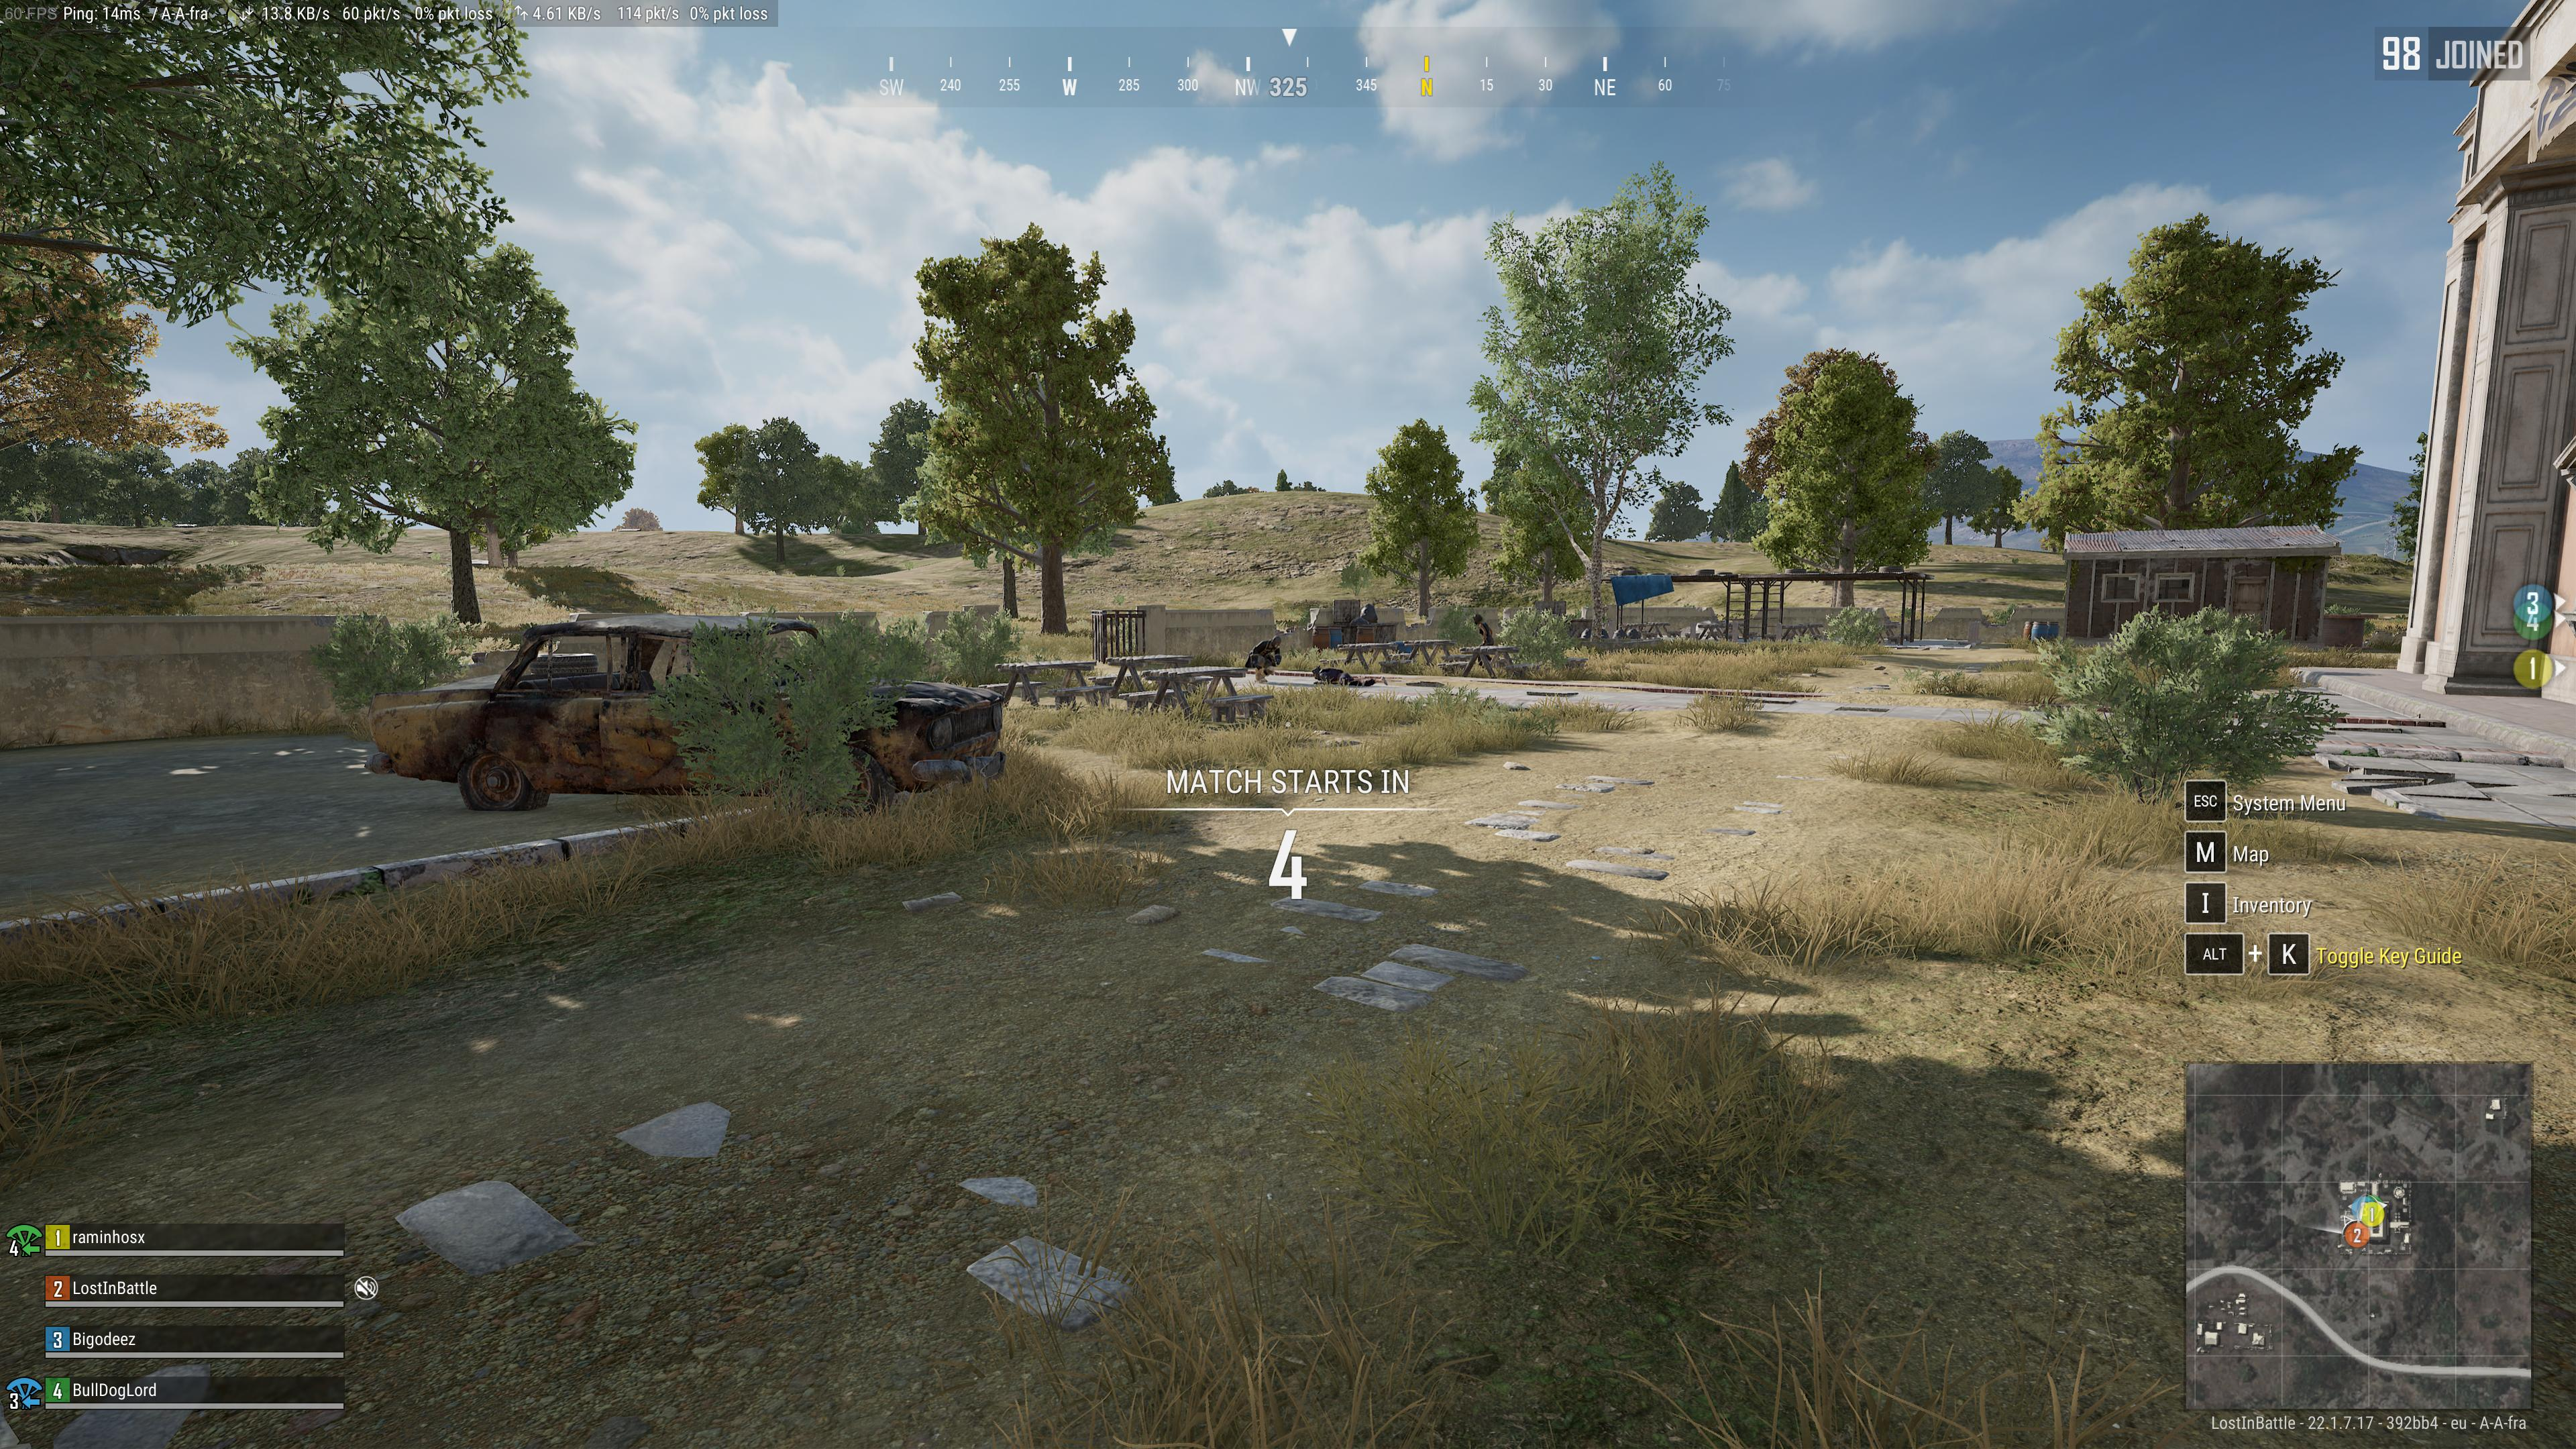enemy: (1244, 635, 1283, 683), (1311, 665, 1387, 686), (1472, 614, 1495, 644)
enemy_head: (1270, 635, 1283, 649), (1311, 665, 1322, 678), (1472, 614, 1483, 625)
